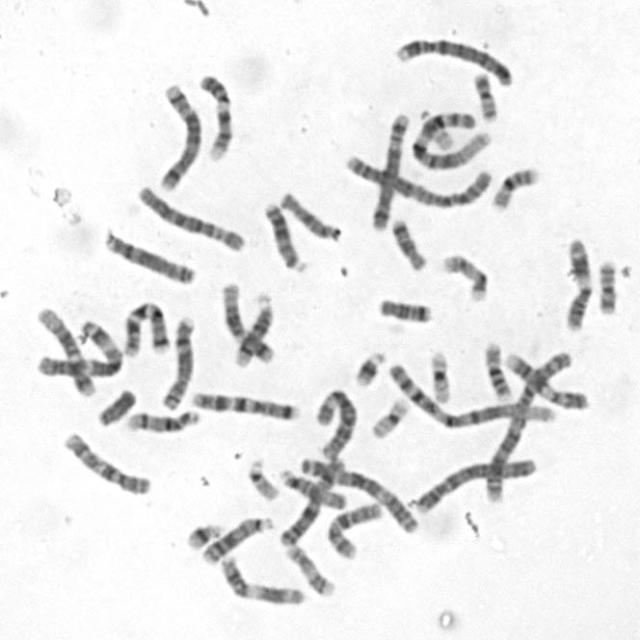A1: (382, 356, 560, 430), (408, 106, 492, 170)
A2: (478, 346, 577, 505), (338, 148, 496, 210)
A3: (295, 453, 422, 535), (32, 315, 124, 379)
B4: (408, 452, 540, 515), (390, 32, 517, 88)
B5: (154, 78, 204, 192), (367, 108, 412, 231)
C10: (58, 425, 154, 498), (322, 496, 386, 562)
C11: (216, 550, 307, 608), (558, 232, 594, 332)
C12: (33, 301, 98, 399), (216, 276, 277, 366)
C6: (133, 180, 249, 254), (311, 384, 358, 462)
C7: (188, 386, 303, 423), (120, 296, 172, 358)
C8: (98, 226, 198, 286), (157, 310, 198, 412)
C9: (499, 346, 592, 413), (194, 67, 236, 162)
D13: (198, 511, 276, 566), (258, 196, 310, 273)
D14: (230, 287, 276, 368), (120, 405, 202, 434)
D15: (274, 185, 342, 242), (274, 464, 348, 510)
E16: (488, 160, 542, 212), (479, 336, 515, 401)
E17: (280, 539, 338, 599), (438, 249, 491, 304)
E18: (386, 212, 430, 272), (373, 292, 435, 325)
F19: (366, 392, 412, 440), (425, 345, 454, 405)
F20: (468, 66, 499, 122), (593, 254, 620, 316)
G21: (349, 345, 388, 389), (181, 517, 225, 551)
G22: (242, 453, 281, 503), (419, 111, 456, 151)
X: (275, 452, 347, 548)
Y: (94, 382, 140, 428)
